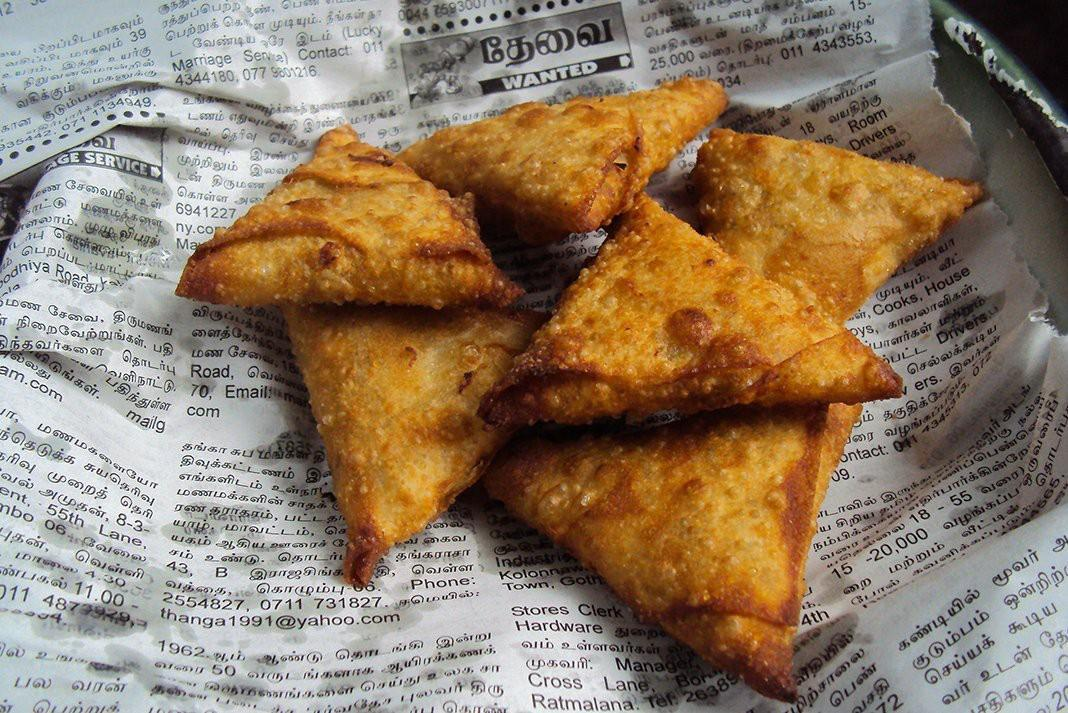Samosa: (481, 399, 857, 696), (468, 195, 906, 404), (277, 302, 548, 599), (177, 124, 542, 299), (698, 124, 987, 323), (383, 73, 732, 228)
